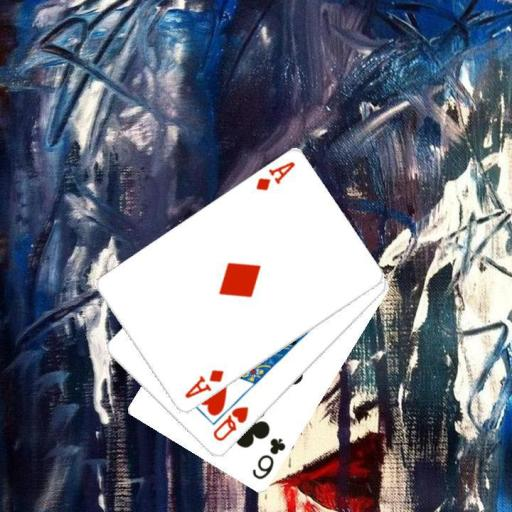6C: (249, 436, 287, 482)
AD: (182, 367, 226, 401), (253, 159, 297, 193)
QH: (210, 404, 250, 443)
